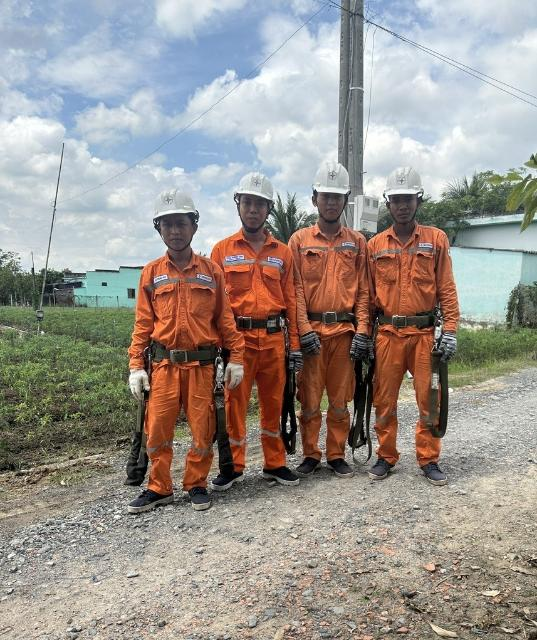gloves: (122, 366, 165, 402), (299, 330, 331, 362), (439, 331, 467, 367), (350, 334, 371, 368), (227, 357, 246, 389), (287, 347, 304, 377)
harness: (135, 343, 229, 367), (367, 301, 448, 327), (220, 311, 287, 338), (299, 307, 360, 330)
helmet: (297, 133, 362, 205), (378, 159, 457, 210), (227, 153, 286, 210), (135, 179, 207, 219)
shoes: (182, 475, 243, 540), (104, 472, 180, 514), (417, 455, 466, 494), (211, 466, 261, 504), (262, 461, 304, 501), (299, 447, 324, 489), (328, 447, 359, 479), (371, 454, 403, 482)
